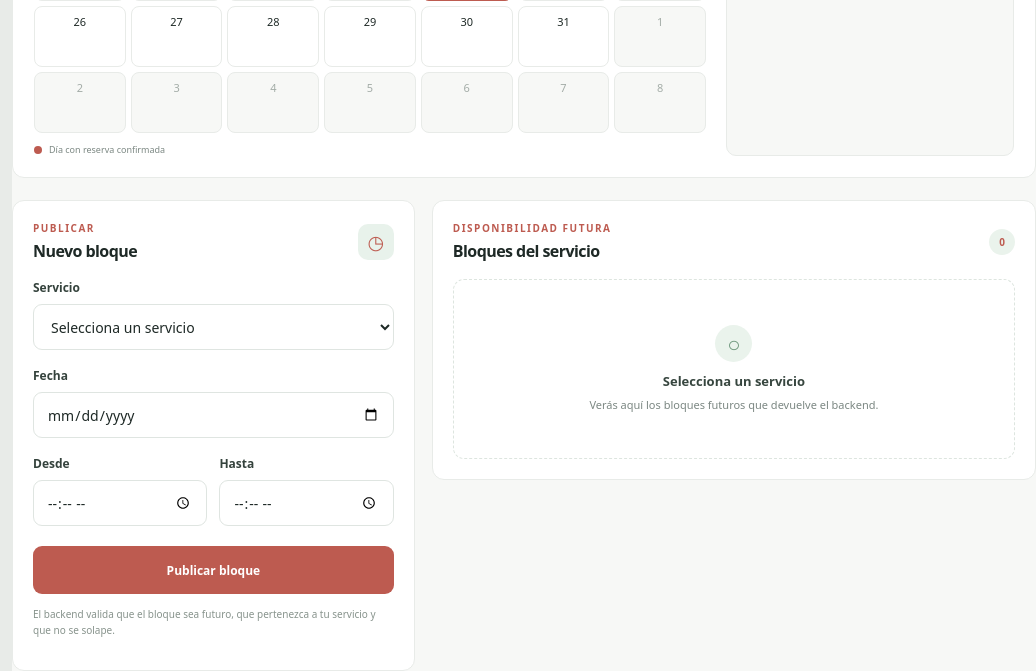
SchedulesPage › rejects an end time that is not later than the start time
This screenshot has width=1036, height=671.
(page scrolled)
Select "Consulta" in the dropdown labelled "Servicio" at point(213, 327), box [33,304,394,350]
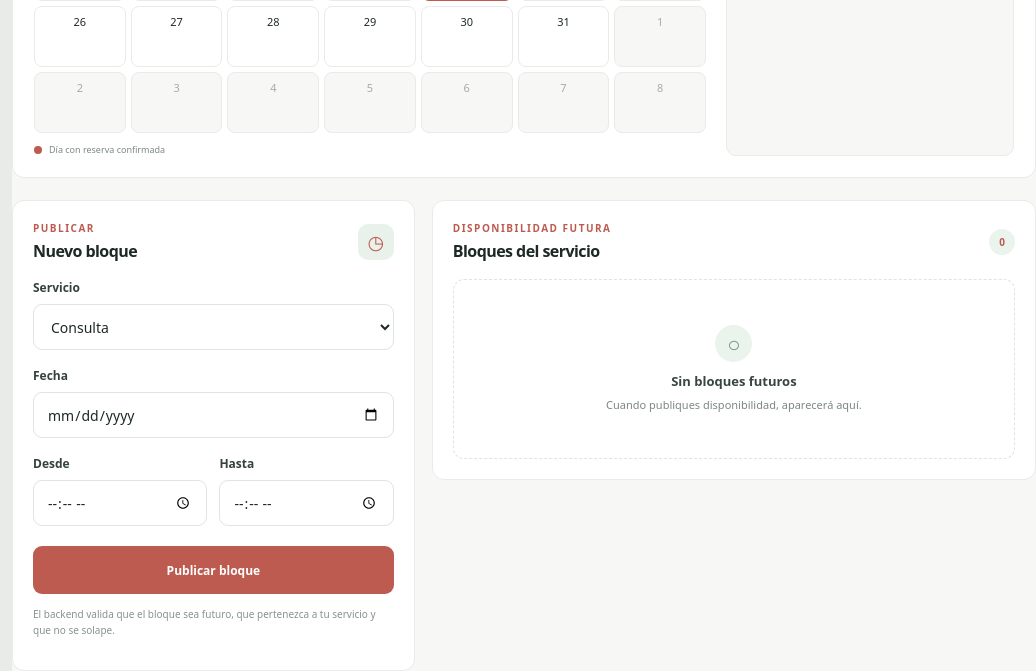
Type "2030-01-15" into the date field labelled "Fecha" at point(213, 415), box [33,392,394,438]
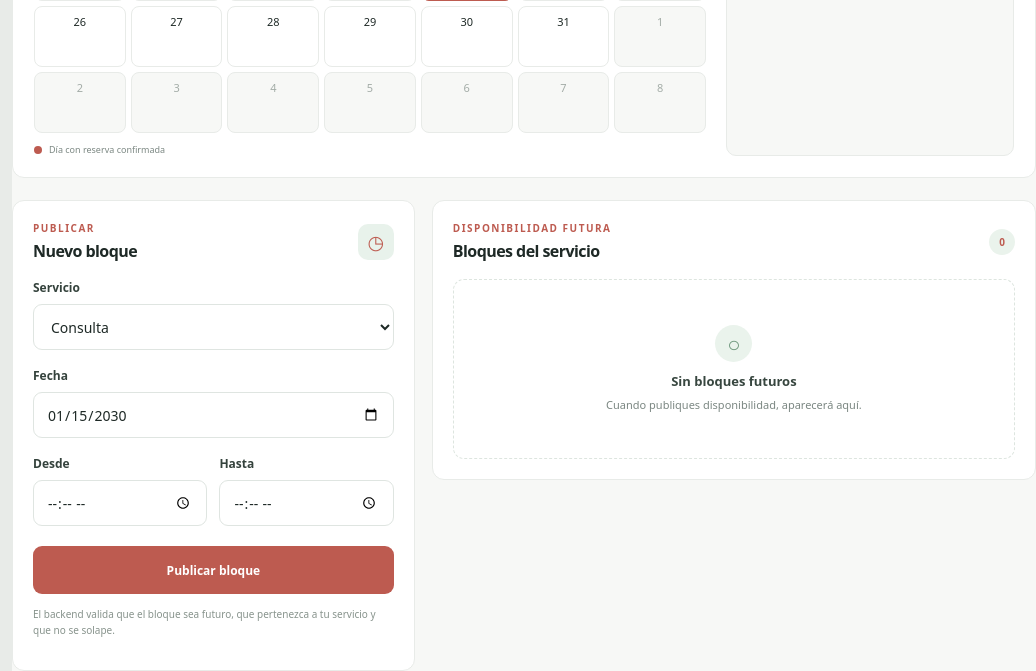
Type "10:00" into the time field labelled "Desde" at point(120, 503), box [33,480,207,526]
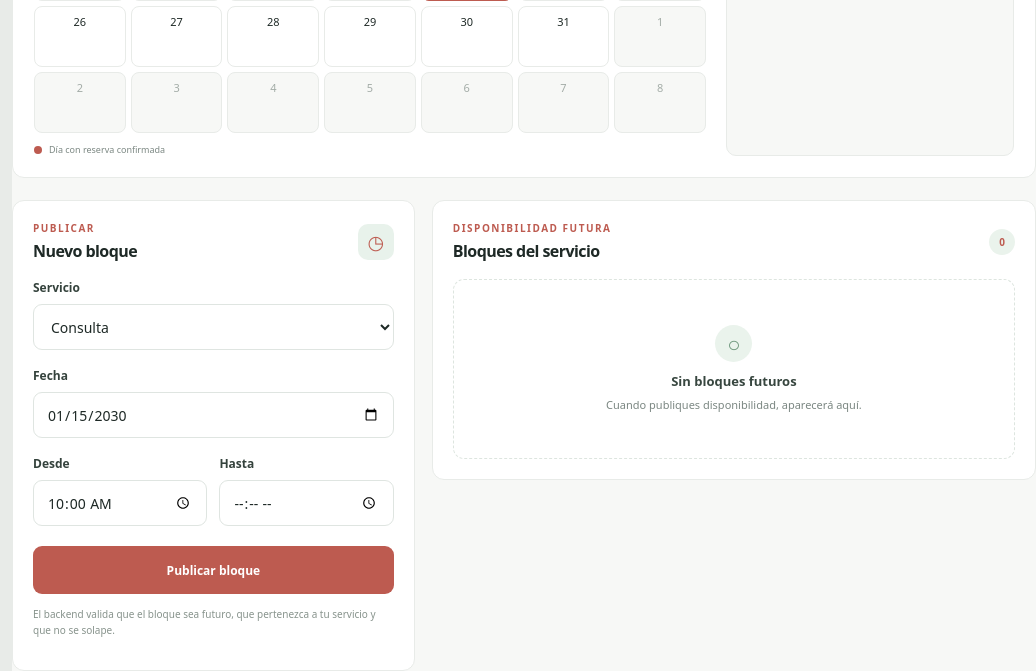
Type "10:00" into the time field labelled "Hasta" at point(307, 503), box [219,480,394,526]
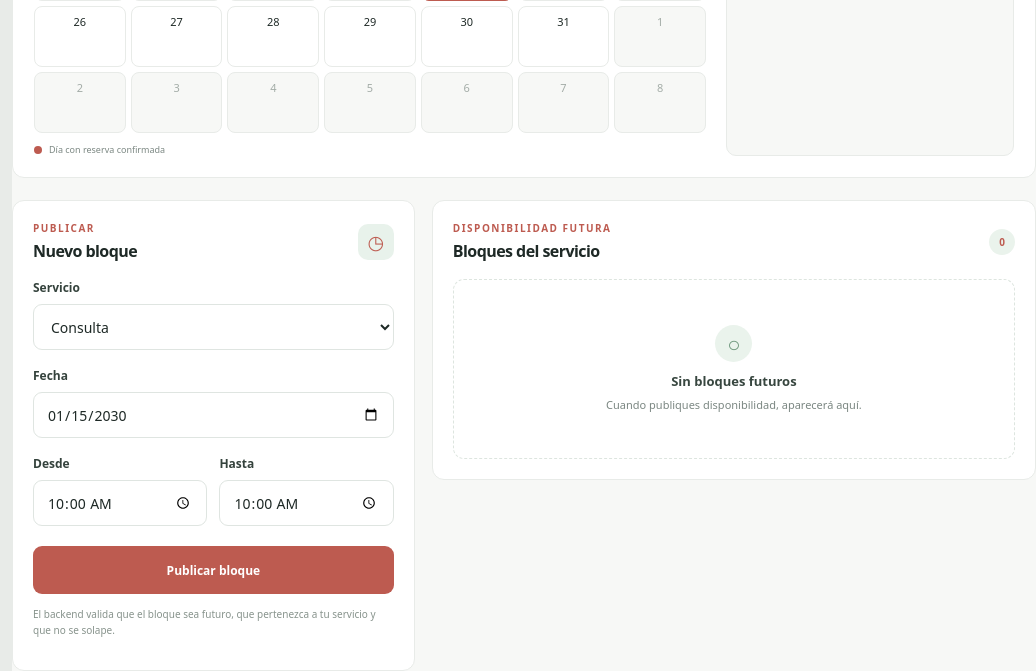
Submit the form labelled "Servicio", box [33,279,394,594]
(page scrolled)
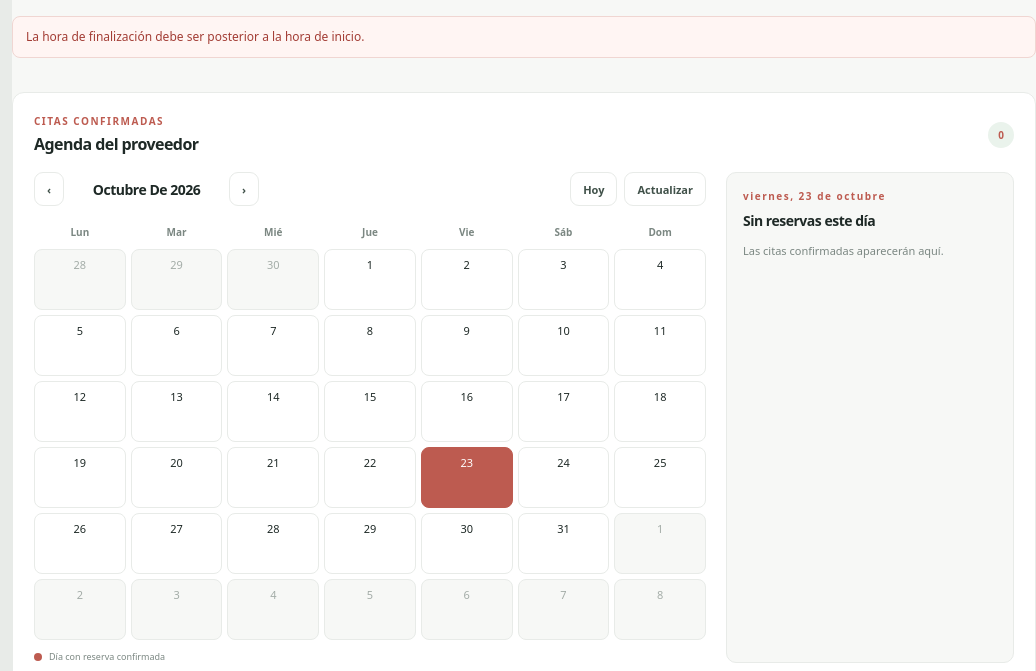
Now the message reads "La hora de finalización debe ser posterior a la hora de inicio.", box [26,28,364,45]
